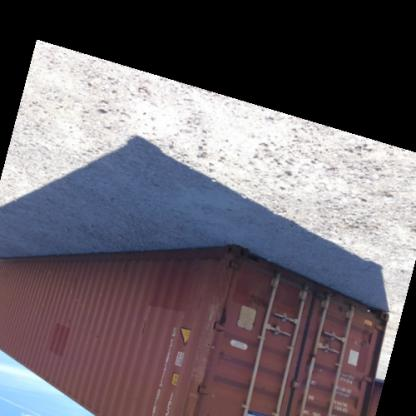Damage: (199, 256, 240, 342), (181, 346, 217, 414), (139, 320, 151, 340)
